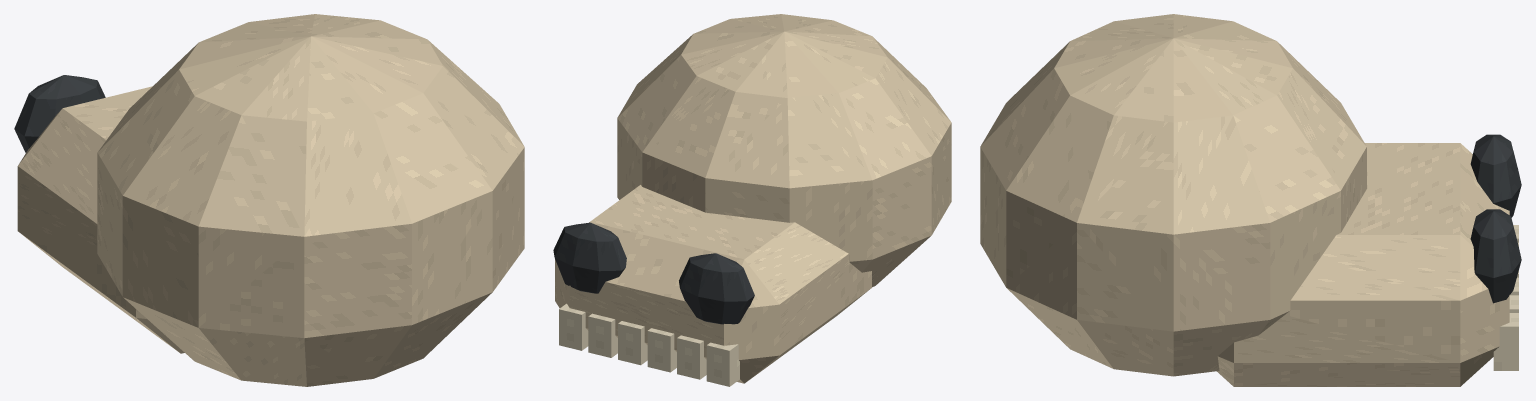
The model's file is skull_human.glb.
3 renders of one model, left to right at view 1: azimuth 30°, elevation 25°; view 2: azimuth 150°, elevation 25°; view 3: azimuth 270°, elevation 25°, orthographic. The views are drawn at different scales.
Parts seen in each view (by area): view 1: block_bone cranium, block_facial skeleton, block_recessed eye socket; view 2: block_bone cranium, block_facial skeleton, block_recessed eye socket (×2), block_small exposed tooth (×6); view 3: block_bone cranium, block_facial skeleton, block_recessed eye socket (×2), block_small exposed tooth.
Part boxes in pixels (x1=…): block_bone cranium: x1=97, y1=14, x2=524, y2=386; block_facial skeleton: x1=17, y1=86, x2=184, y2=353; block_recessed eye socket: x1=14, y1=75, x2=105, y2=152; block_bone cranium: x1=617, y1=14, x2=951, y2=287; block_facial skeleton: x1=555, y1=185, x2=871, y2=383; block_recessed eye socket (×2): x1=553, y1=222, x2=754, y2=324; block_small exposed tooth (×6): x1=559, y1=303, x2=739, y2=386; block_bone cranium: x1=980, y1=14, x2=1366, y2=376; block_facial skeleton: x1=1217, y1=143, x2=1509, y2=386; block_recessed eye socket (×2): x1=1470, y1=134, x2=1521, y2=303; block_small exposed tooth: x1=1493, y1=313, x2=1518, y2=370.
Size of the model in its own units: 0.1642 by 0.1366 by 0.2137.
Materials: 1 (1 with a texture image).
